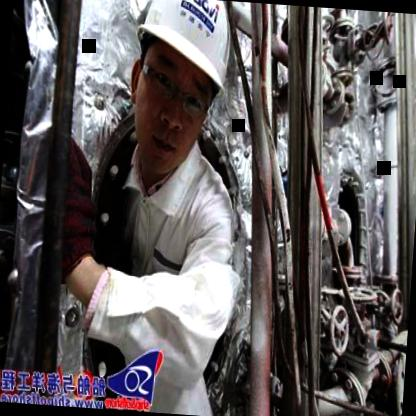helmet: (115, 0, 238, 189)
